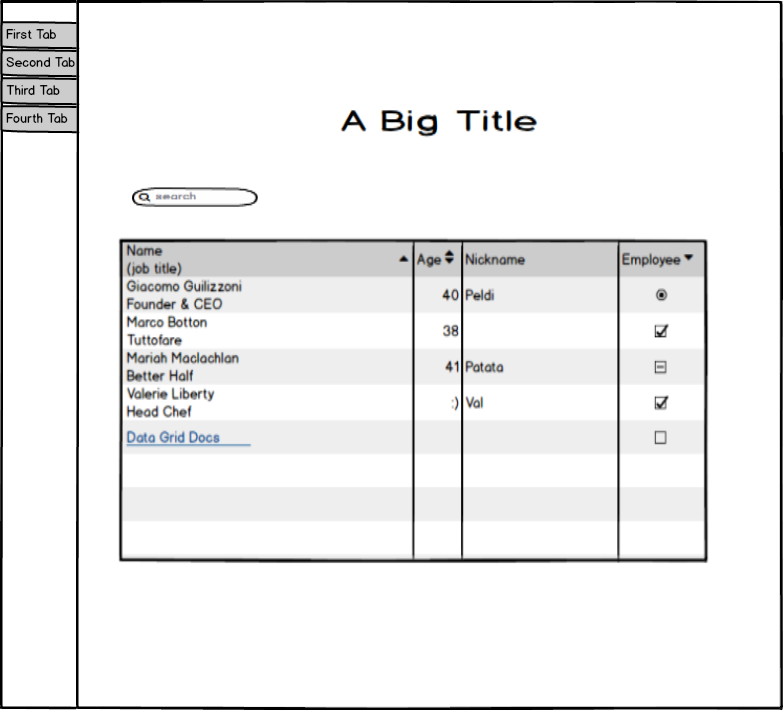h1: (328, 99, 548, 143)
search: (125, 184, 261, 209)
sidebar: (4, 14, 82, 142)
table: (113, 236, 713, 568)
